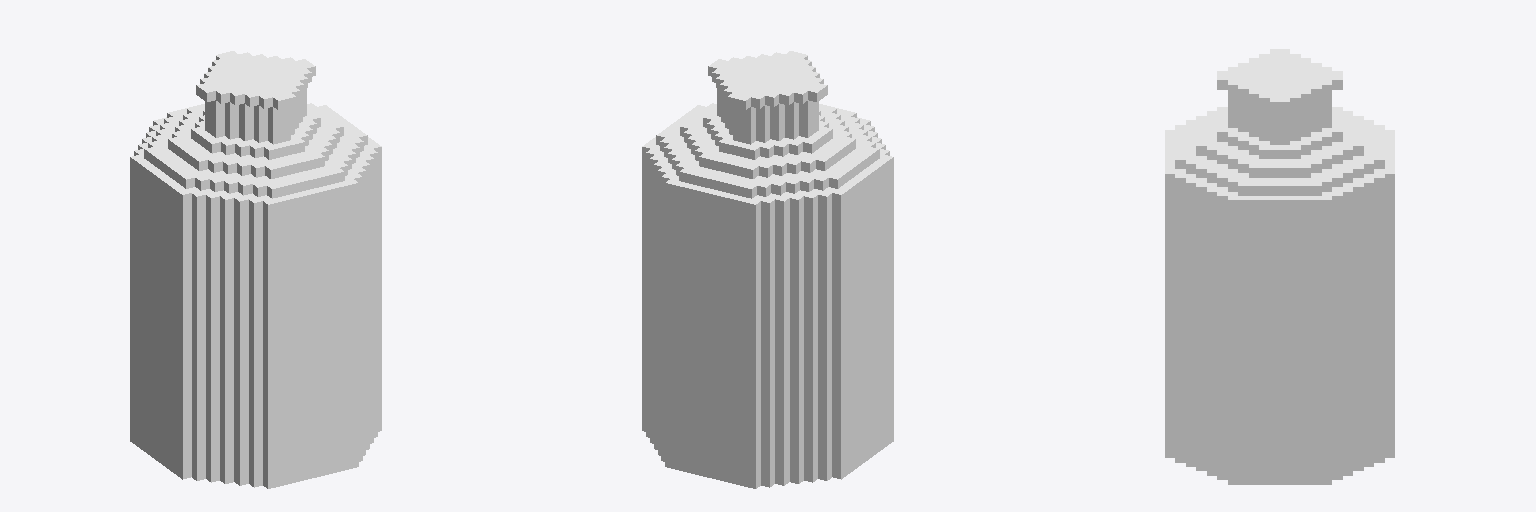
3 renders of one model, left to right at view 1: azimuth 30°, elevation 25°; view 2: azimuth 150°, elevation 25°; view 3: azimuth 270°, elevation 25°, orthographic.
Visible parts, largest first — view 1: object 1; view 2: object 1; view 3: object 1.
Boxes of the visible parts, box(x1,y1,x2,y2) form: object 1: box(130, 51, 381, 488); object 1: box(642, 51, 893, 488); object 1: box(1165, 49, 1394, 484).
Bounding box in the file's own units: 2.2 × 3.8 × 2.2.
Materials: 1 (1 with a texture image).